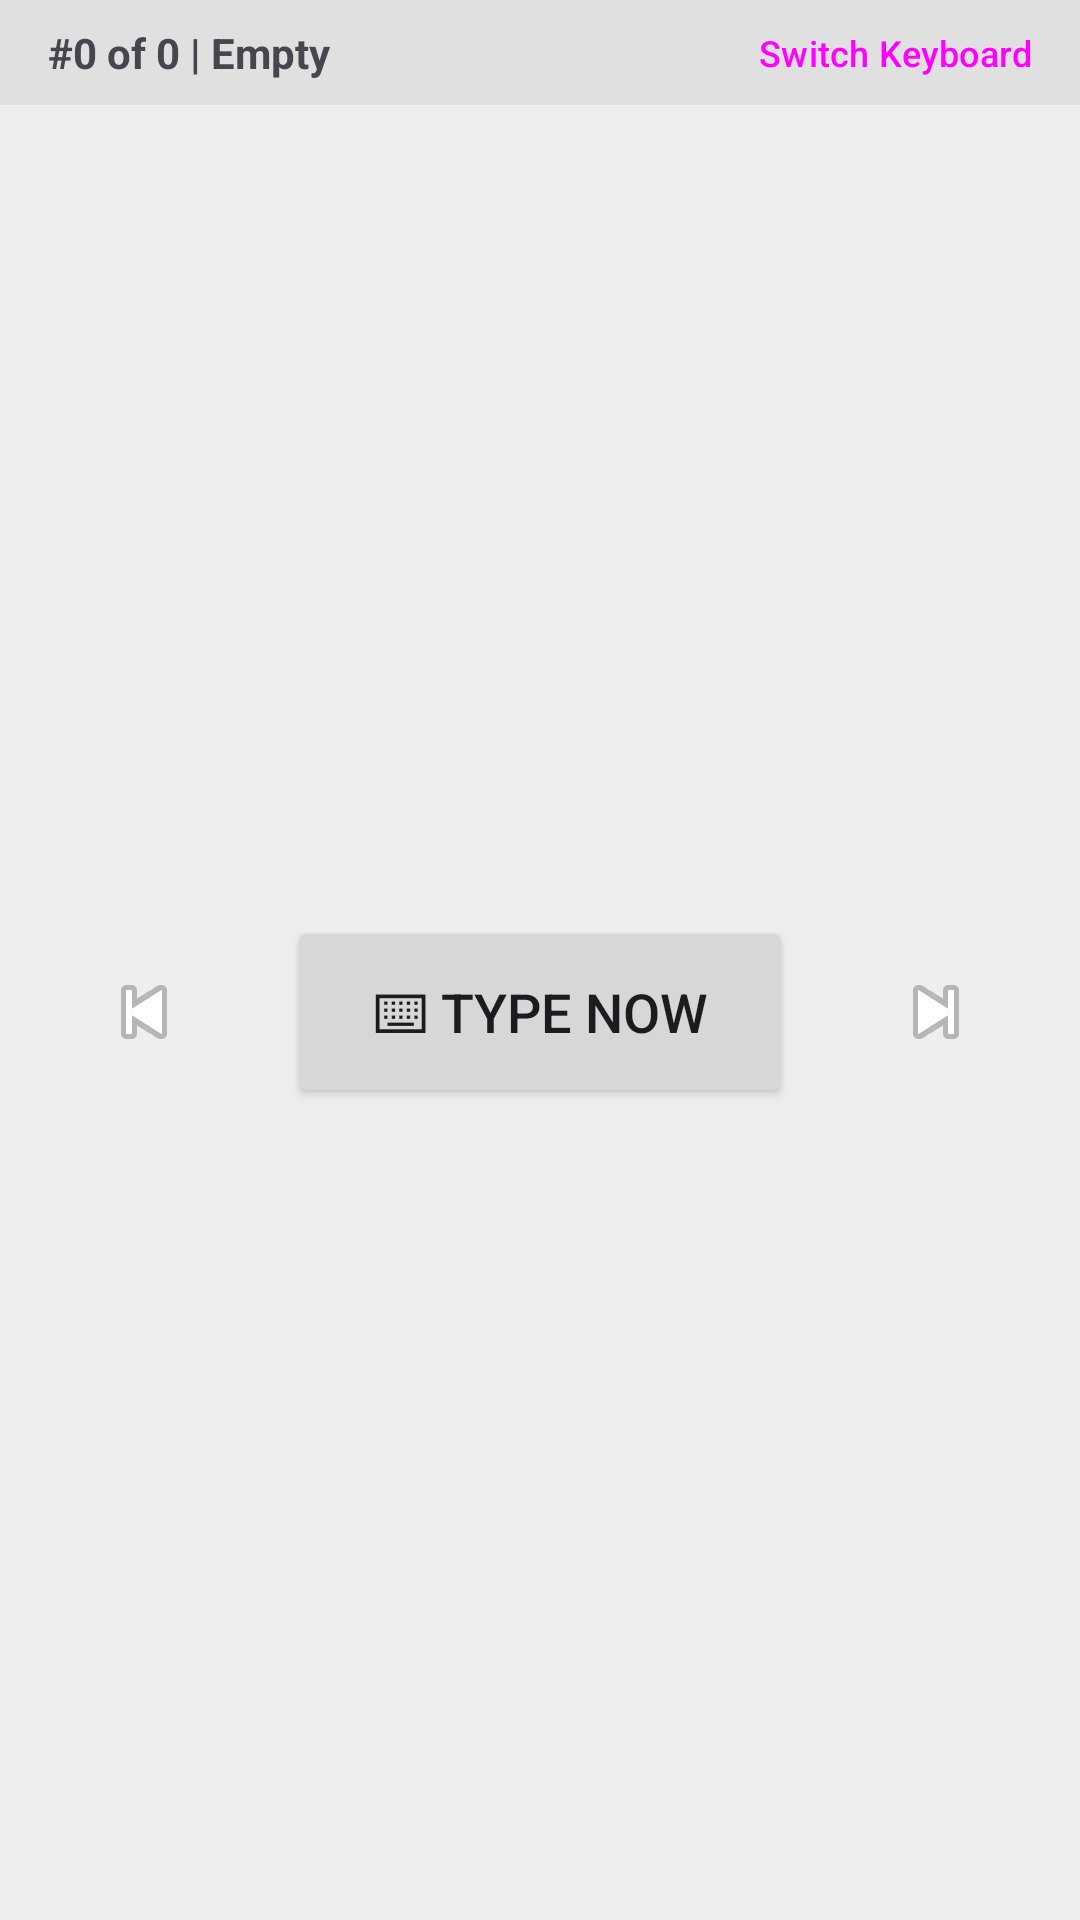

Where to tap for icons on this 1080x1920 app screen, as point (x, y):
Next: point (936, 1012)
Previous: point (144, 1012)
